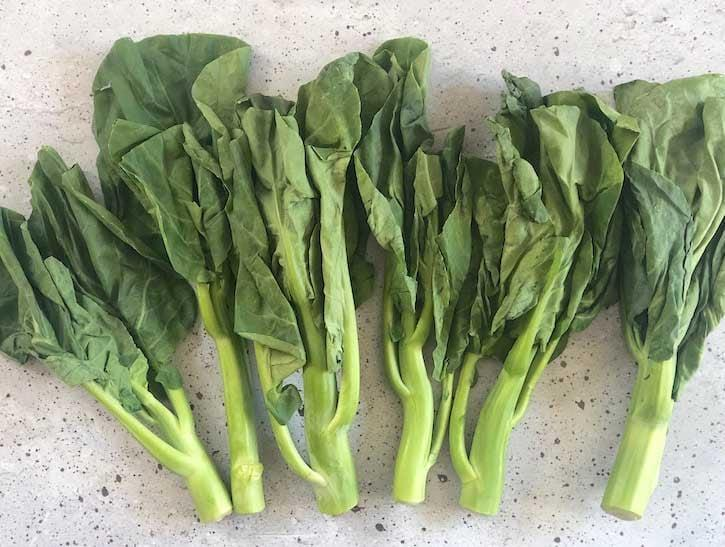Healthy-Pechay: (150, 54, 353, 517), (388, 133, 572, 475), (0, 206, 185, 366)
